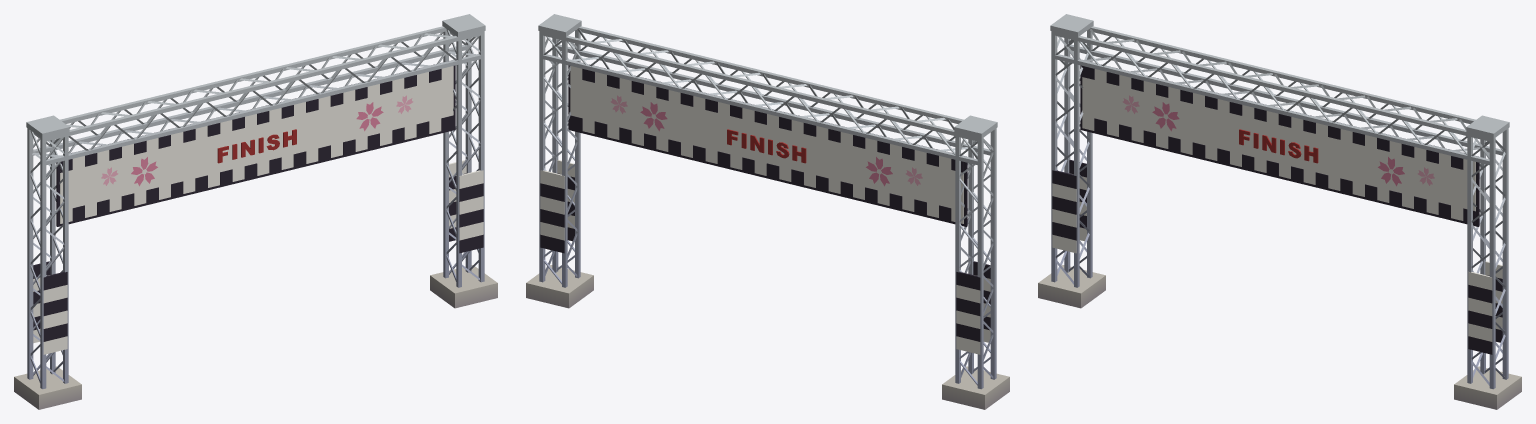
Rendered from finish_arch.glb.
3 views of the same model, side by side, from view 1: azimuth 30°, elevation 25°; view 2: azimuth 150°, elevation 25°; view 3: azimuth 330°, elevation 25° (orthographic).
Visible parts, largest first — view 1: finish_arch; view 2: finish_arch; view 3: finish_arch.
Part boxes in pixels (<box>): finish_arch: <box>14,14,497,409</box>; finish_arch: <box>526,14,1009,409</box>; finish_arch: <box>1038,14,1521,409</box>.
Bounding box in the file's own units: 11.2 × 6.32 × 1.05.
